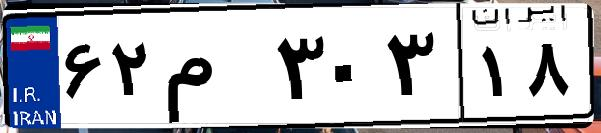0: (330, 28, 385, 110)
1: (475, 38, 525, 113)
2: (110, 28, 158, 98)
3: (270, 28, 330, 110), (385, 28, 445, 110)
6: (57, 26, 110, 100)
8: (525, 38, 570, 115)
م: (158, 20, 270, 120)
